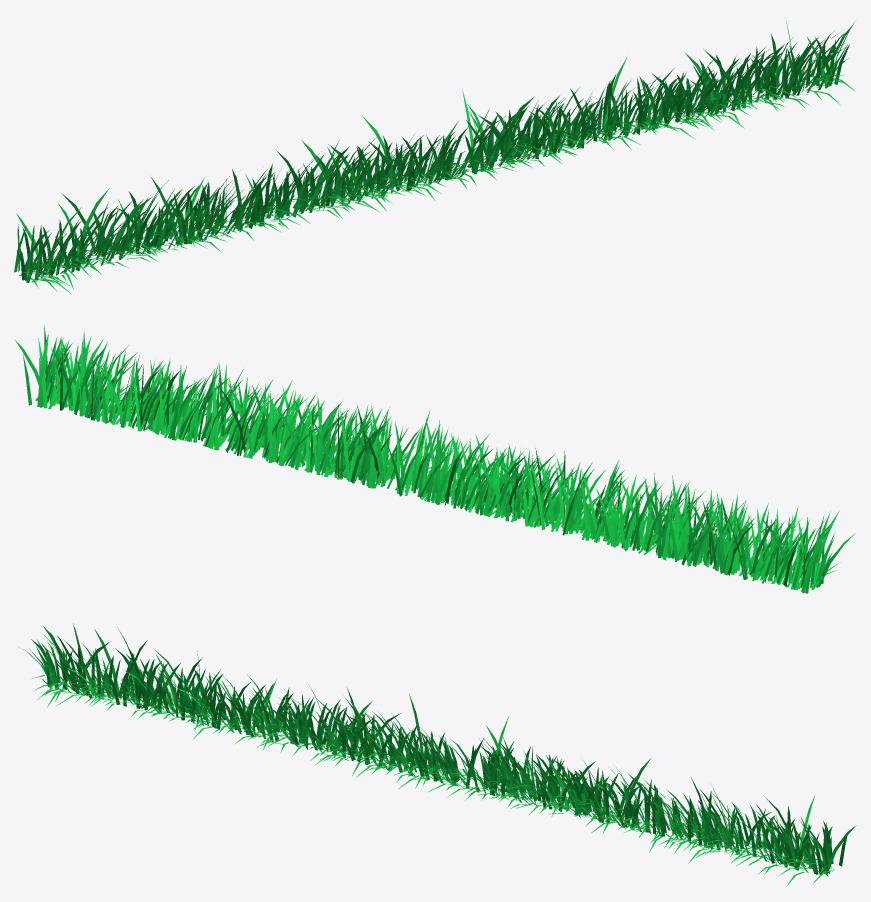
File: grass_row.obj
The picture shows the model from 3 angles, top to bottom: view 1: azimuth 30°, elevation 25°; view 2: azimuth 150°, elevation 25°; view 3: azimuth 330°, elevation 25°; orthographic projection. The views are drawn at different scales.
Parts seen in each view (by area): view 1: Grass_03; view 2: Grass_03; view 3: Grass_03.
Part boxes in pixels (left/top/right/bottom): Grass_03: left=14, top=20, right=855, bottom=293; Grass_03: left=14, top=325, right=855, bottom=593; Grass_03: left=19, top=623, right=856, bottom=886.
Size of the model in its own units: 19.71 by 1.53 by 1.95.
Materials: 1 (1 with a texture image).
